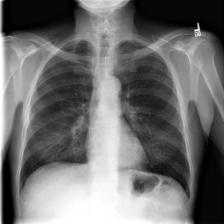normal: (14, 34, 195, 209)
